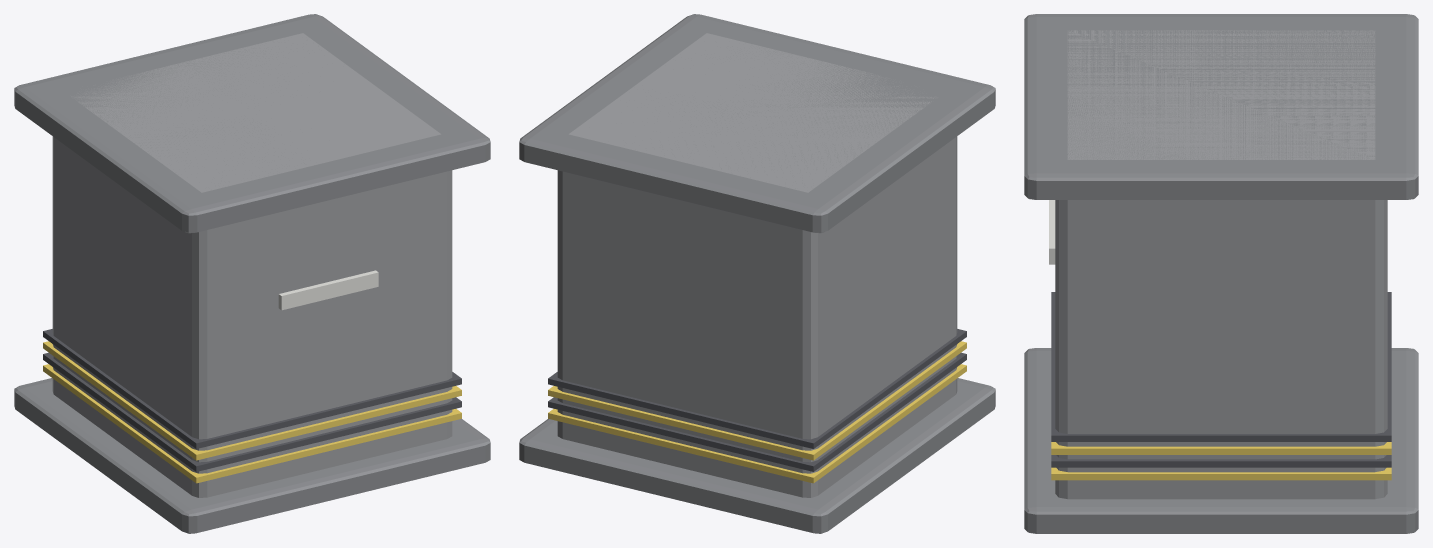
File: prop_column.fbx
3 renders of one model, left to right at view 1: azimuth 30°, elevation 25°; view 2: azimuth 150°, elevation 25°; view 3: azimuth 270°, elevation 25°, orthographic. The views are drawn at different scales.
Parts seen in each view (by area): view 1: prop_column; view 2: prop_column; view 3: prop_column.
Boxes of the visible parts, bbox=[...] form: prop_column: bbox=[14, 14, 490, 533]; prop_column: bbox=[519, 14, 995, 533]; prop_column: bbox=[1024, 14, 1418, 533].
Bounding box in the file's own units: 1 × 1 × 1.
